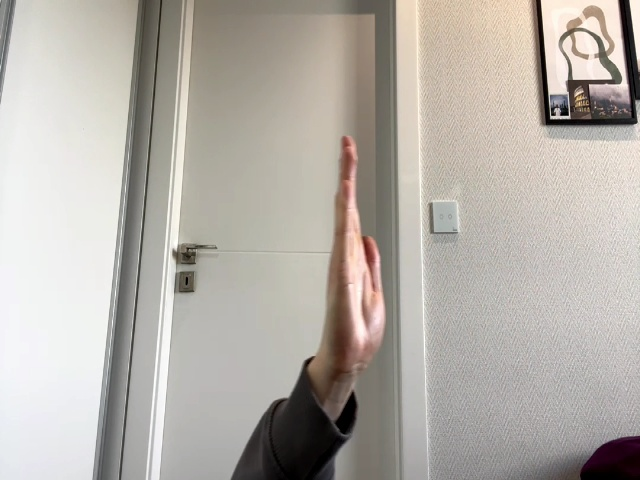SZ: (326, 135, 386, 376)
